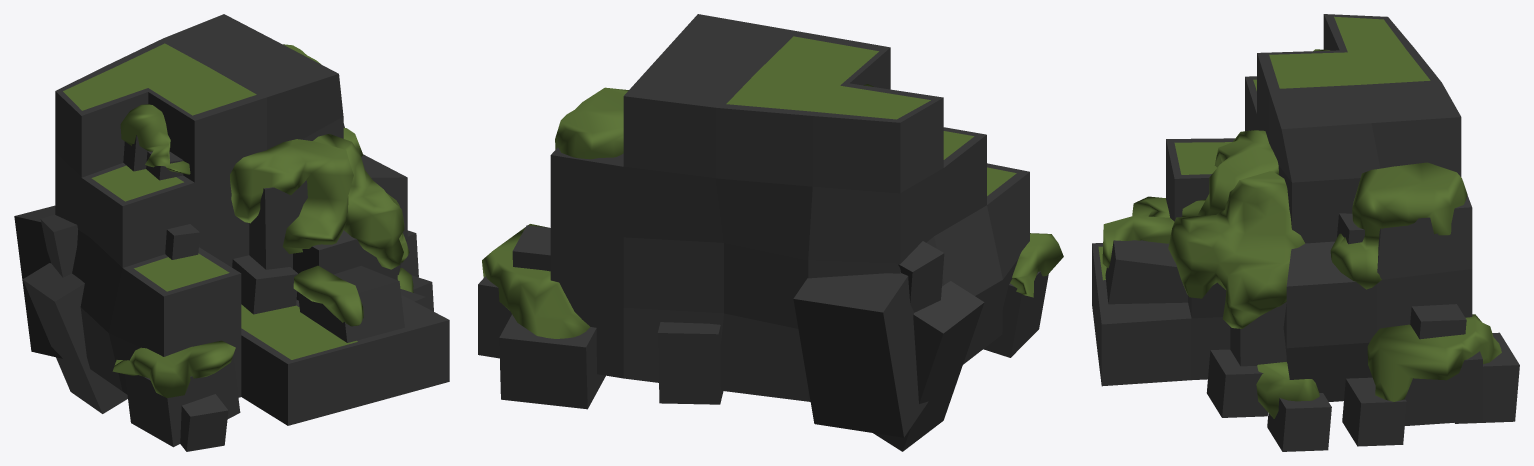
Rendered from DarkStoneDecorationLargeStoneCluster2.fbx.
3 views of the same model, side by side, from view 1: azimuth 30°, elevation 25°; view 2: azimuth 150°, elevation 25°; view 3: azimuth 270°, elevation 25° (orthographic). The views are drawn at different scales.
Visible parts, largest first — view 1: DarkStoneDecorationLargeStoneCluster2, DarkStoneDecorationLargeStoneCluster2GreenStuff; view 2: DarkStoneDecorationLargeStoneCluster2, DarkStoneDecorationLargeStoneCluster2GreenStuff; view 3: DarkStoneDecorationLargeStoneCluster2, DarkStoneDecorationLargeStoneCluster2GreenStuff.
Part boxes in pixels (bbox=[...]): DarkStoneDecorationLargeStoneCluster2: bbox=[14, 14, 449, 451]; DarkStoneDecorationLargeStoneCluster2GreenStuff: bbox=[63, 43, 413, 397]; DarkStoneDecorationLargeStoneCluster2: bbox=[478, 14, 1048, 451]; DarkStoneDecorationLargeStoneCluster2GreenStuff: bbox=[482, 36, 1063, 338]; DarkStoneDecorationLargeStoneCluster2: bbox=[1092, 14, 1519, 451]; DarkStoneDecorationLargeStoneCluster2GreenStuff: bbox=[1098, 16, 1501, 418].
Bounding box in the file's own units: 1306 × 959 × 1256.
